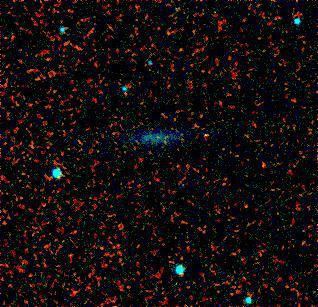star: (193, 119, 223, 149)
